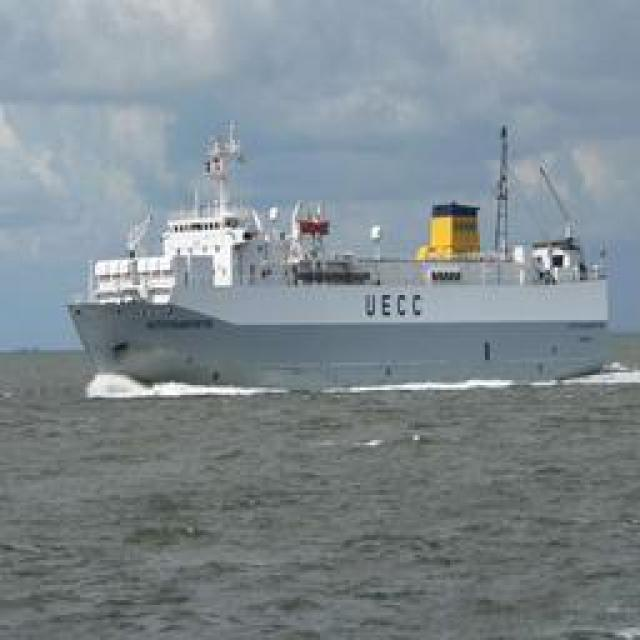CIV_Ship: (60, 119, 620, 384)
